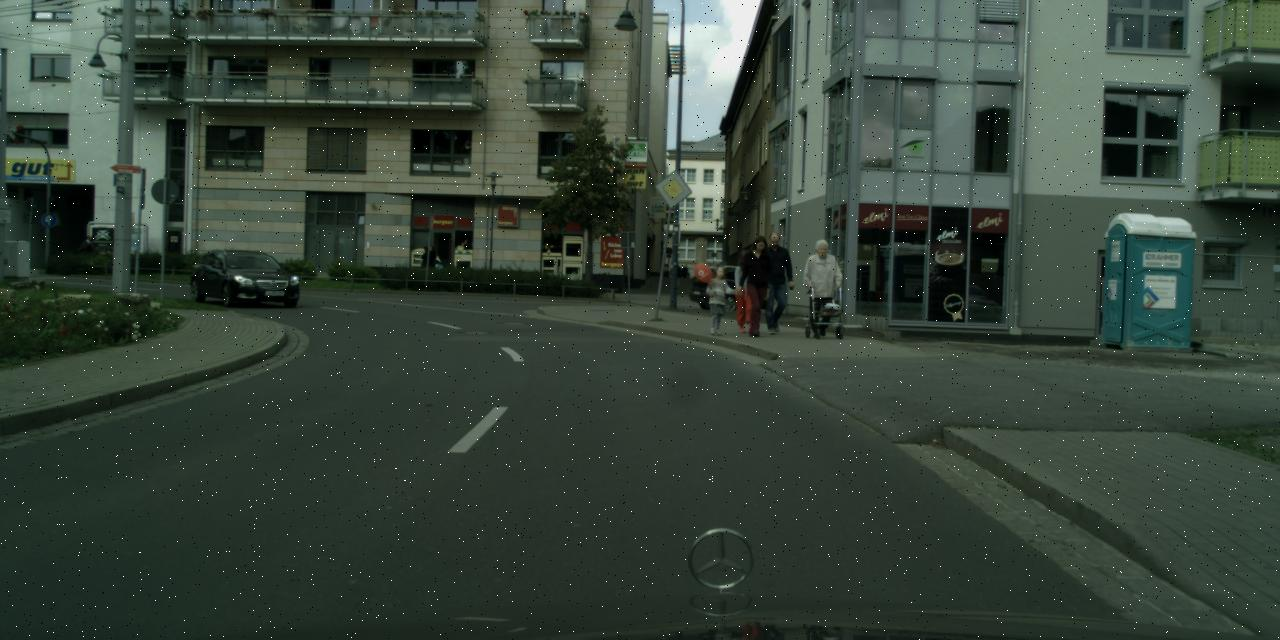ped: (753, 232, 795, 334), (736, 236, 777, 336), (801, 239, 841, 335), (728, 249, 762, 331), (704, 266, 731, 334), (422, 246, 437, 268), (679, 264, 689, 278)
